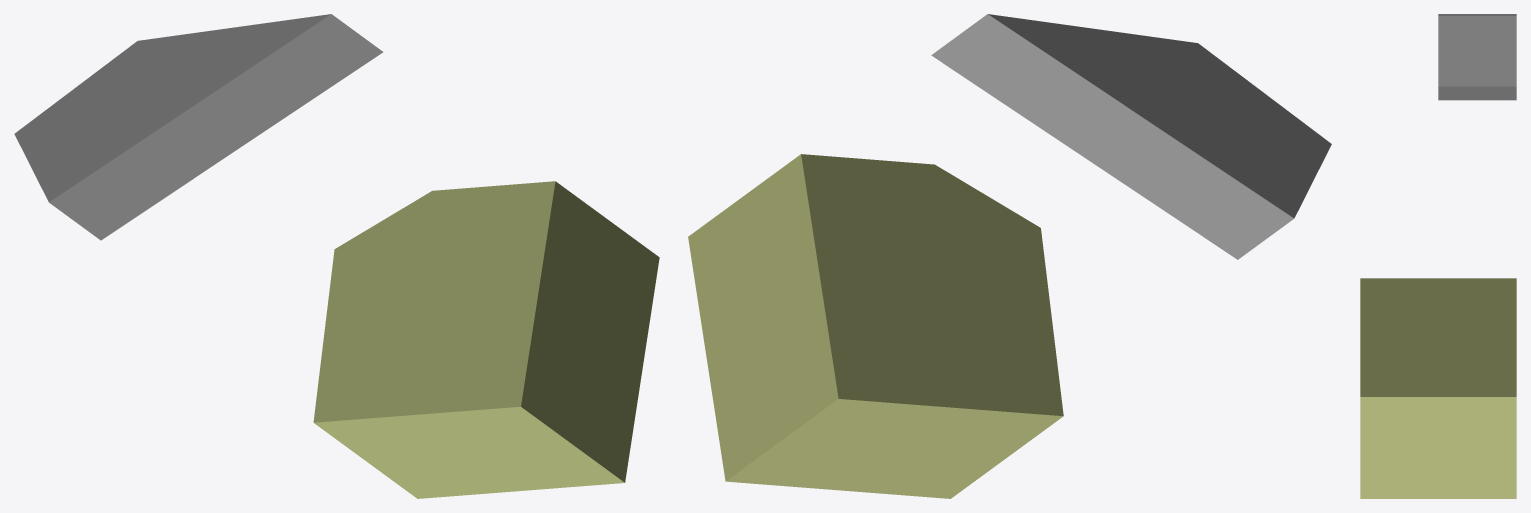
3 renders of one model, left to right at view 1: azimuth 30°, elevation 25°; view 2: azimuth 150°, elevation 25°; view 3: azimuth 270°, elevation 25°, orthographic. The views are drawn at different scales.
Visible parts, largest first — view 1: 0_3_1_3_0_0_3_0_2_0; view 2: 0_3_1_3_0_0_3_0_2_0; view 3: 0_3_1_3_0_0_3_0_2_0.
Part boxes in pixels (x1,y1,x2,y2): 0_3_1_3_0_0_3_0_2_0: [14, 14, 659, 498]; 0_3_1_3_0_0_3_0_2_0: [688, 14, 1331, 498]; 0_3_1_3_0_0_3_0_2_0: [1360, 14, 1516, 498].
Size of the model in its own units: 18 by 14.6 by 6.
